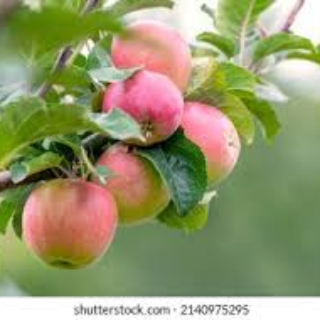tao: (19, 175, 122, 276)
